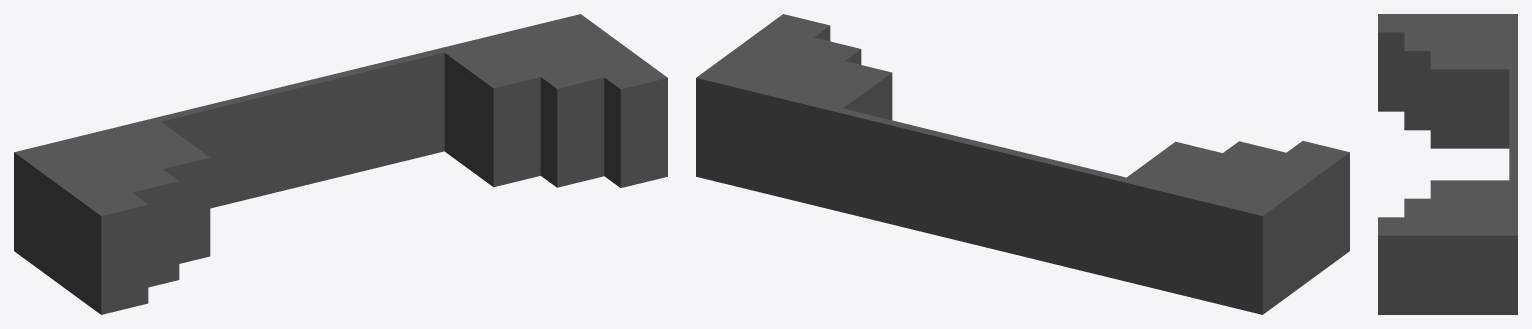
Rendered from ground 1.obj.
The picture shows the model from 3 angles, left to right: view 1: azimuth 30°, elevation 25°; view 2: azimuth 150°, elevation 25°; view 3: azimuth 270°, elevation 25°; orthographic projection. The views are drawn at different scales.
Bounding box in the file's own units: 60 × 10 × 16.
Materials: 1 (1 with a texture image).
